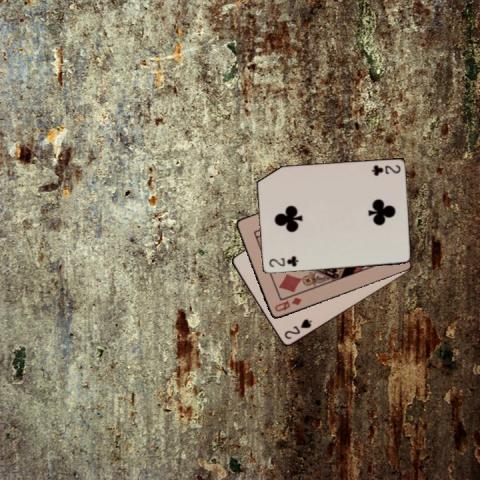2c: (266, 253, 299, 269), (369, 162, 402, 177)
2s: (282, 316, 314, 341)
Qd: (271, 294, 303, 313)
